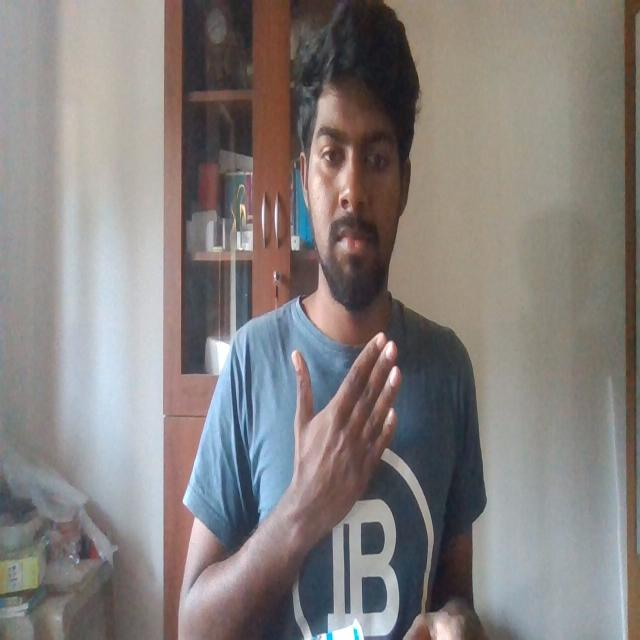Please: (285, 324, 408, 541)
